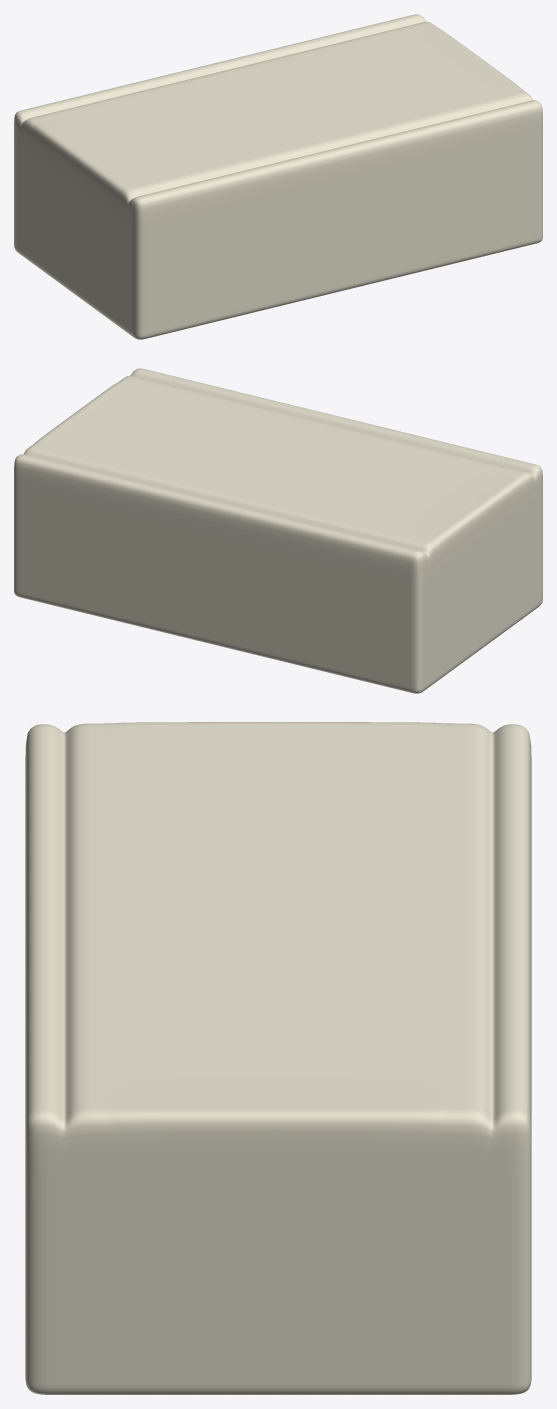
The model's file is SM_Butter.fbx.
3 renders of one model, top to bottom at view 1: azimuth 30°, elevation 25°; view 2: azimuth 150°, elevation 25°; view 3: azimuth 270°, elevation 25°, orthographic. The views are drawn at different scales.
Parts seen in each view (by area): view 1: Butter; view 2: Butter; view 3: Butter.
Boxes of the visible parts, <box> form: Butter: <box>14,14,542,339</box>; Butter: <box>14,368,542,693</box>; Butter: <box>25,722,531,1394</box>.
Size of what is drawn, in the model's own units: 12.1 by 6.5 by 4.01.
